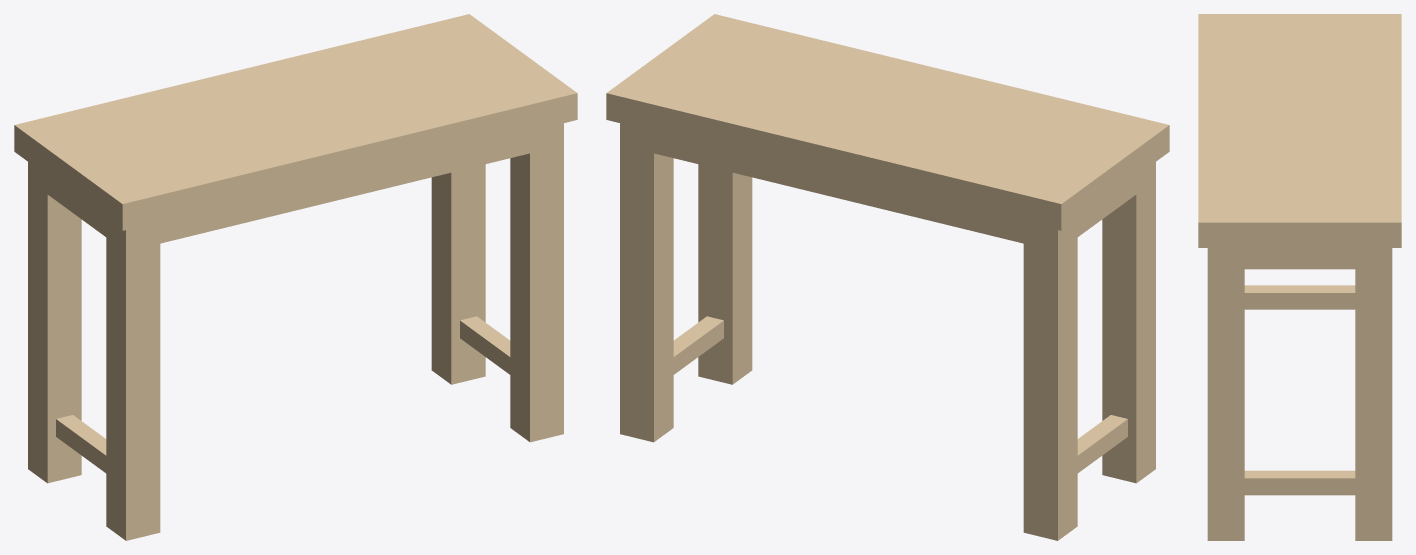
The model's file is sideTable.glb.
3 renders of one model, left to right at view 1: azimuth 30°, elevation 25°; view 2: azimuth 150°, elevation 25°; view 3: azimuth 270°, elevation 25°, orthographic. The views are drawn at different scales.
Parts seen in each view (by area): view 1: sideTable; view 2: sideTable; view 3: sideTable.
Boxes of the visible parts, left/top/right/bottom form: sideTable: left=14, top=14, right=577, bottom=540; sideTable: left=606, top=14, right=1169, bottom=540; sideTable: left=1198, top=14, right=1401, bottom=540.
Bounding box in the file's own units: 5.34 × 3.84 × 2.2.
